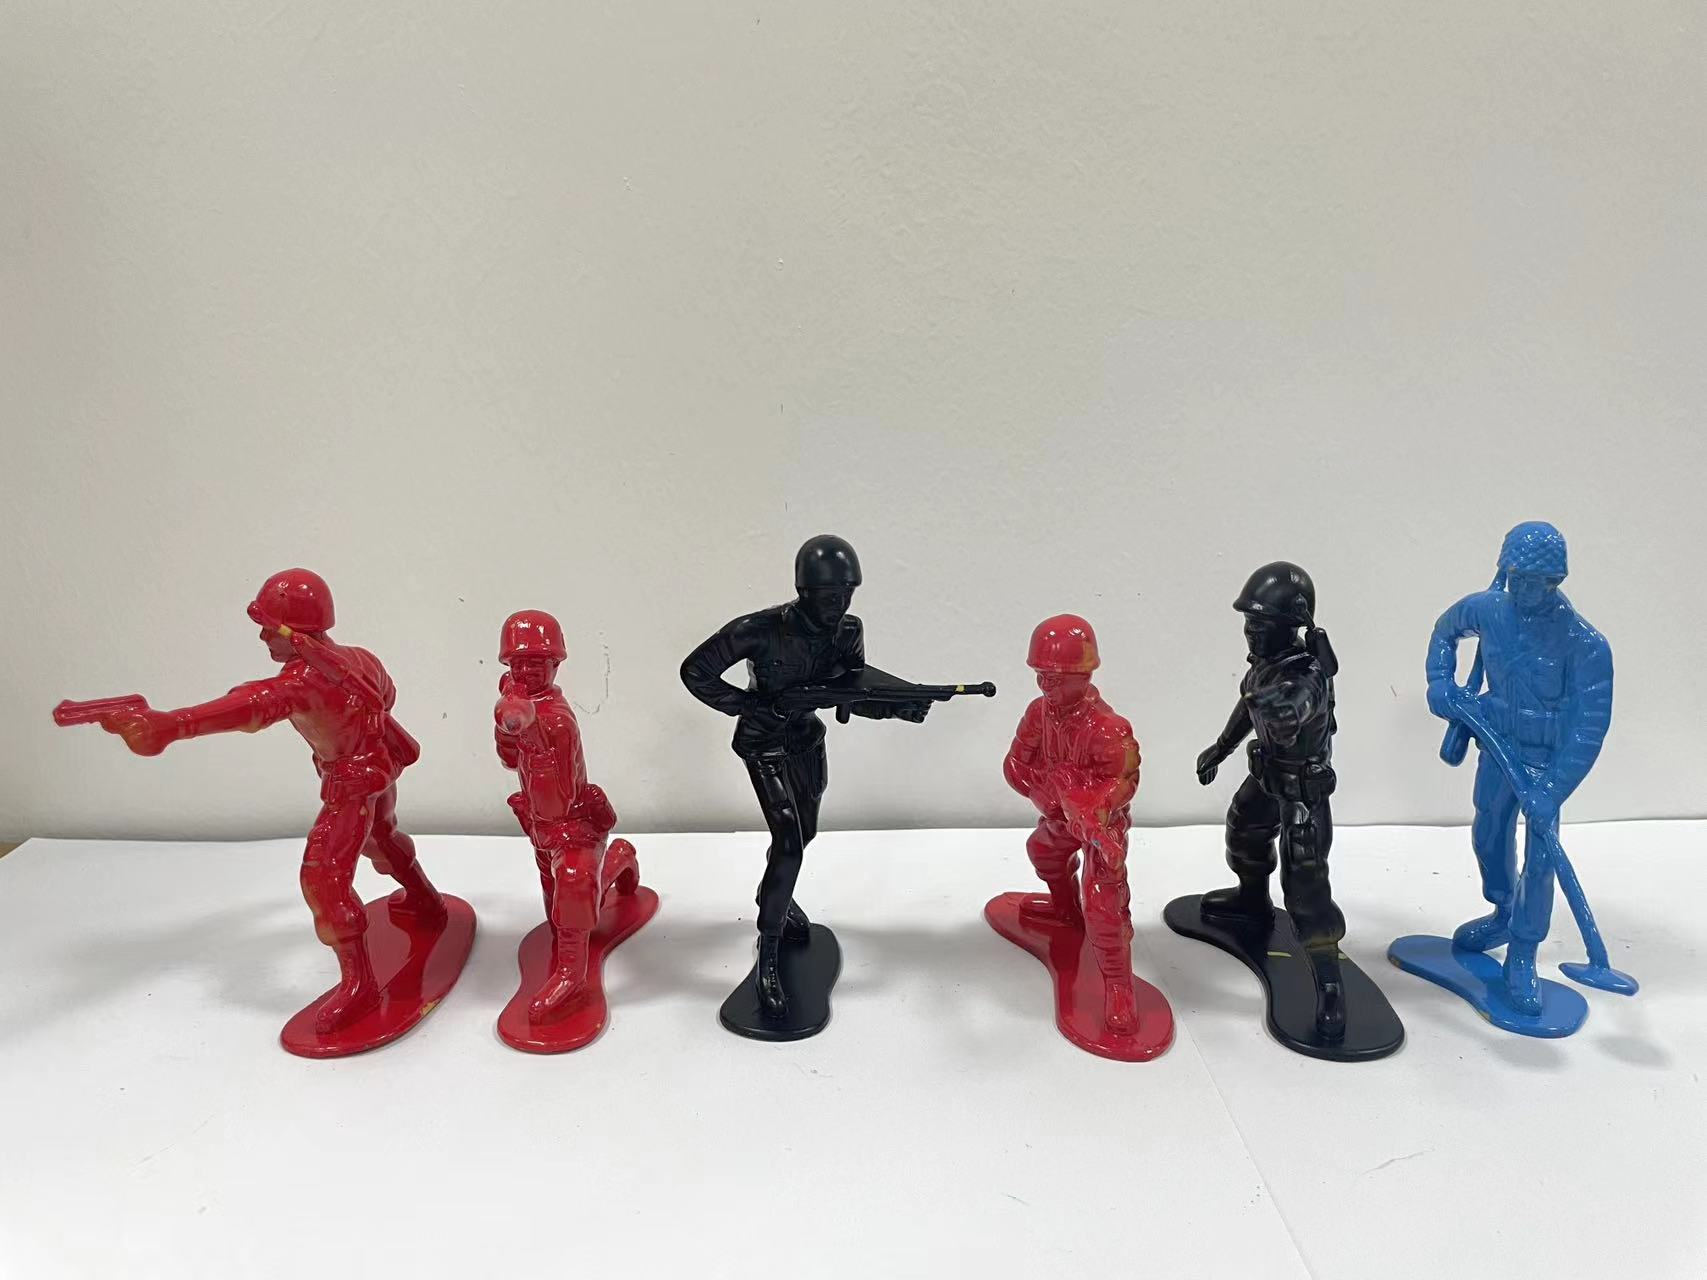black: (659, 499, 973, 1119), (1161, 493, 1419, 1119)
blue: (1401, 516, 1685, 1092)
red: (26, 531, 457, 1101), (472, 575, 681, 1104), (970, 579, 1179, 1101)
